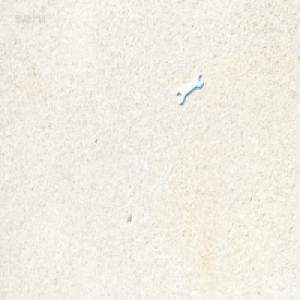Wrench: (175, 72, 201, 105)
